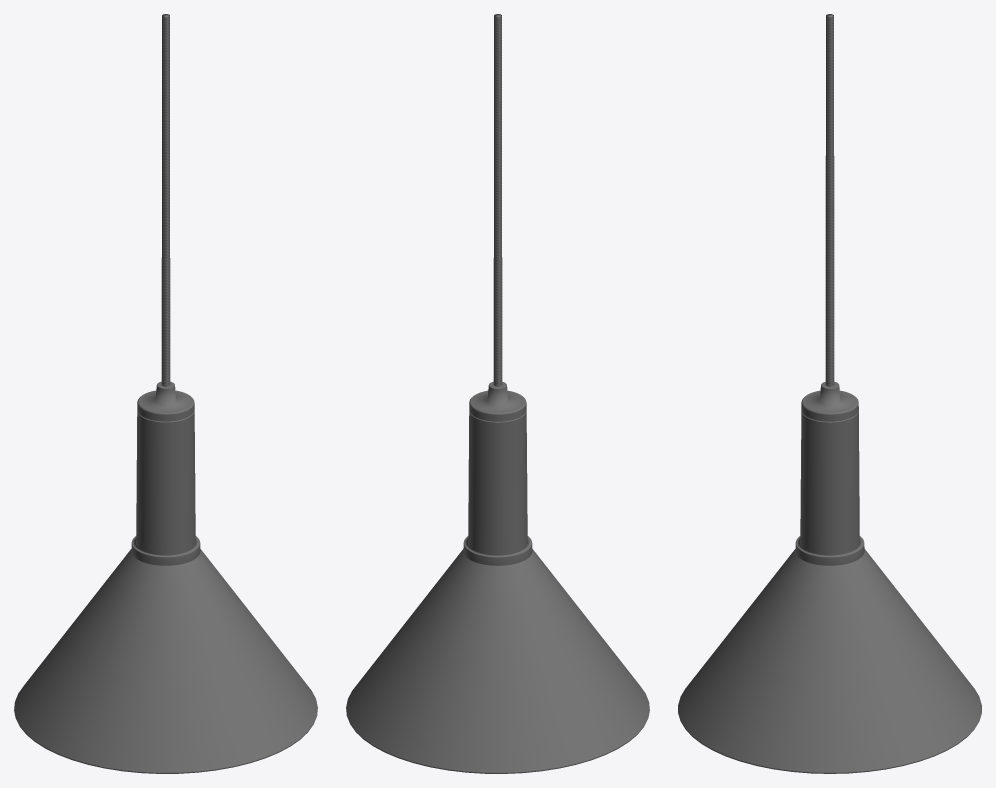
File: B082DNZZD5.glb
3 renders of one model, left to right at view 1: azimuth 30°, elevation 25°; view 2: azimuth 150°, elevation 25°; view 3: azimuth 270°, elevation 25°, orthographic.
Parts seen in each view (by area): view 1: RootNode; view 2: RootNode; view 3: RootNode.
Part boxes in pixels (<box>): RootNode: <box>14,14,317,773</box>; RootNode: <box>346,14,649,773</box>; RootNode: <box>678,14,981,773</box>.
Size of the model in its own units: 0.2667 by 0.6826 by 0.2667.
Materials: 1 (1 with a texture image).
